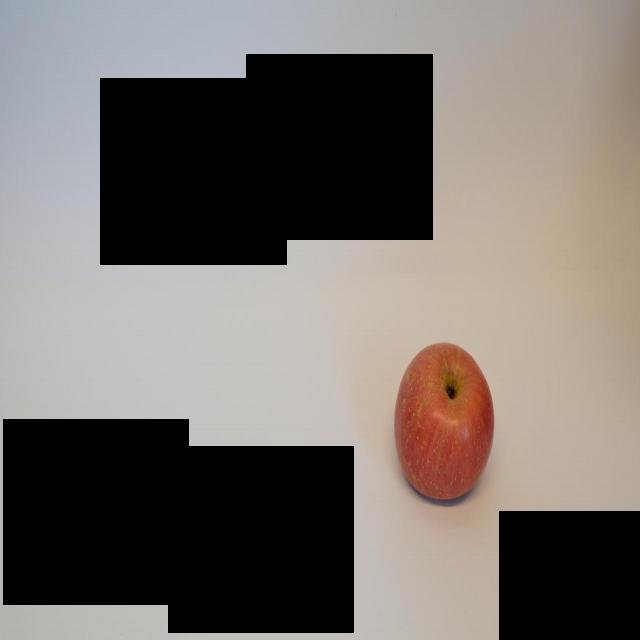apple: (384, 343, 495, 504)
